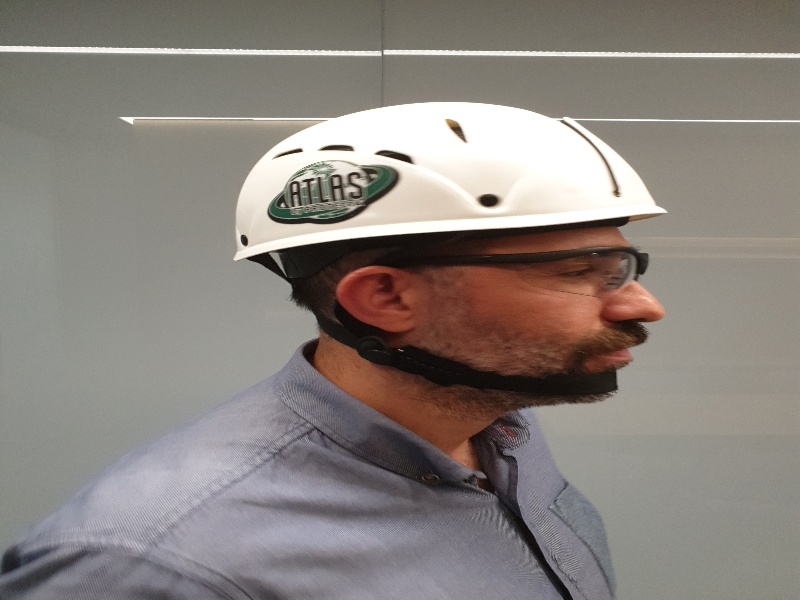Baret: (234, 103, 670, 246)
Gozluk: (407, 245, 652, 291)
